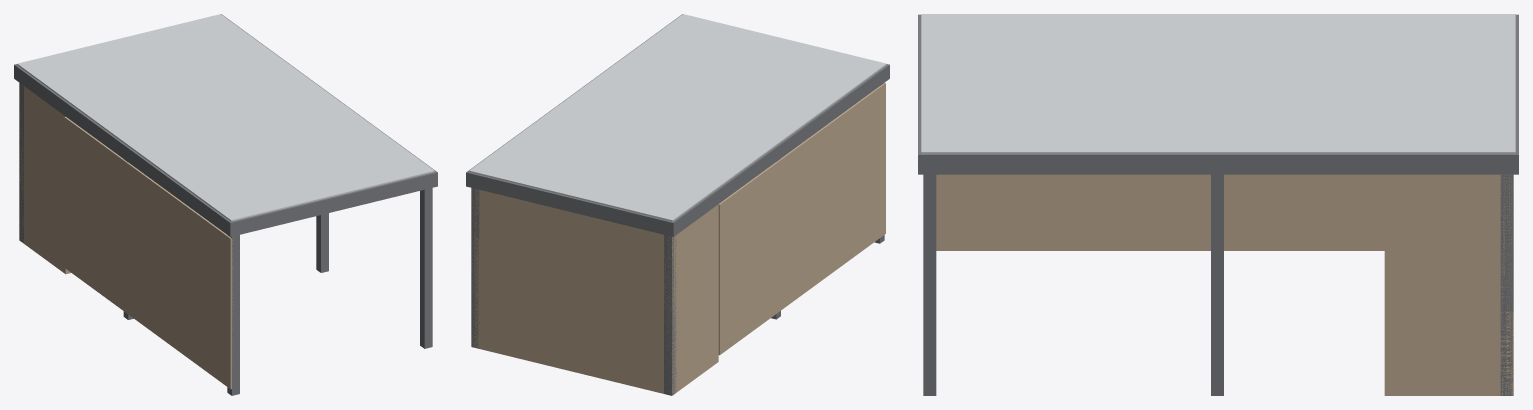
The model's file is carport.glb.
3 renders of one model, left to right at view 1: azimuth 30°, elevation 25°; view 2: azimuth 150°, elevation 25°; view 3: azimuth 270°, elevation 25°, orthographic. The views are drawn at different scales.
Bounding box in the file's own units: 3.1 × 2.52 × 5.6.
